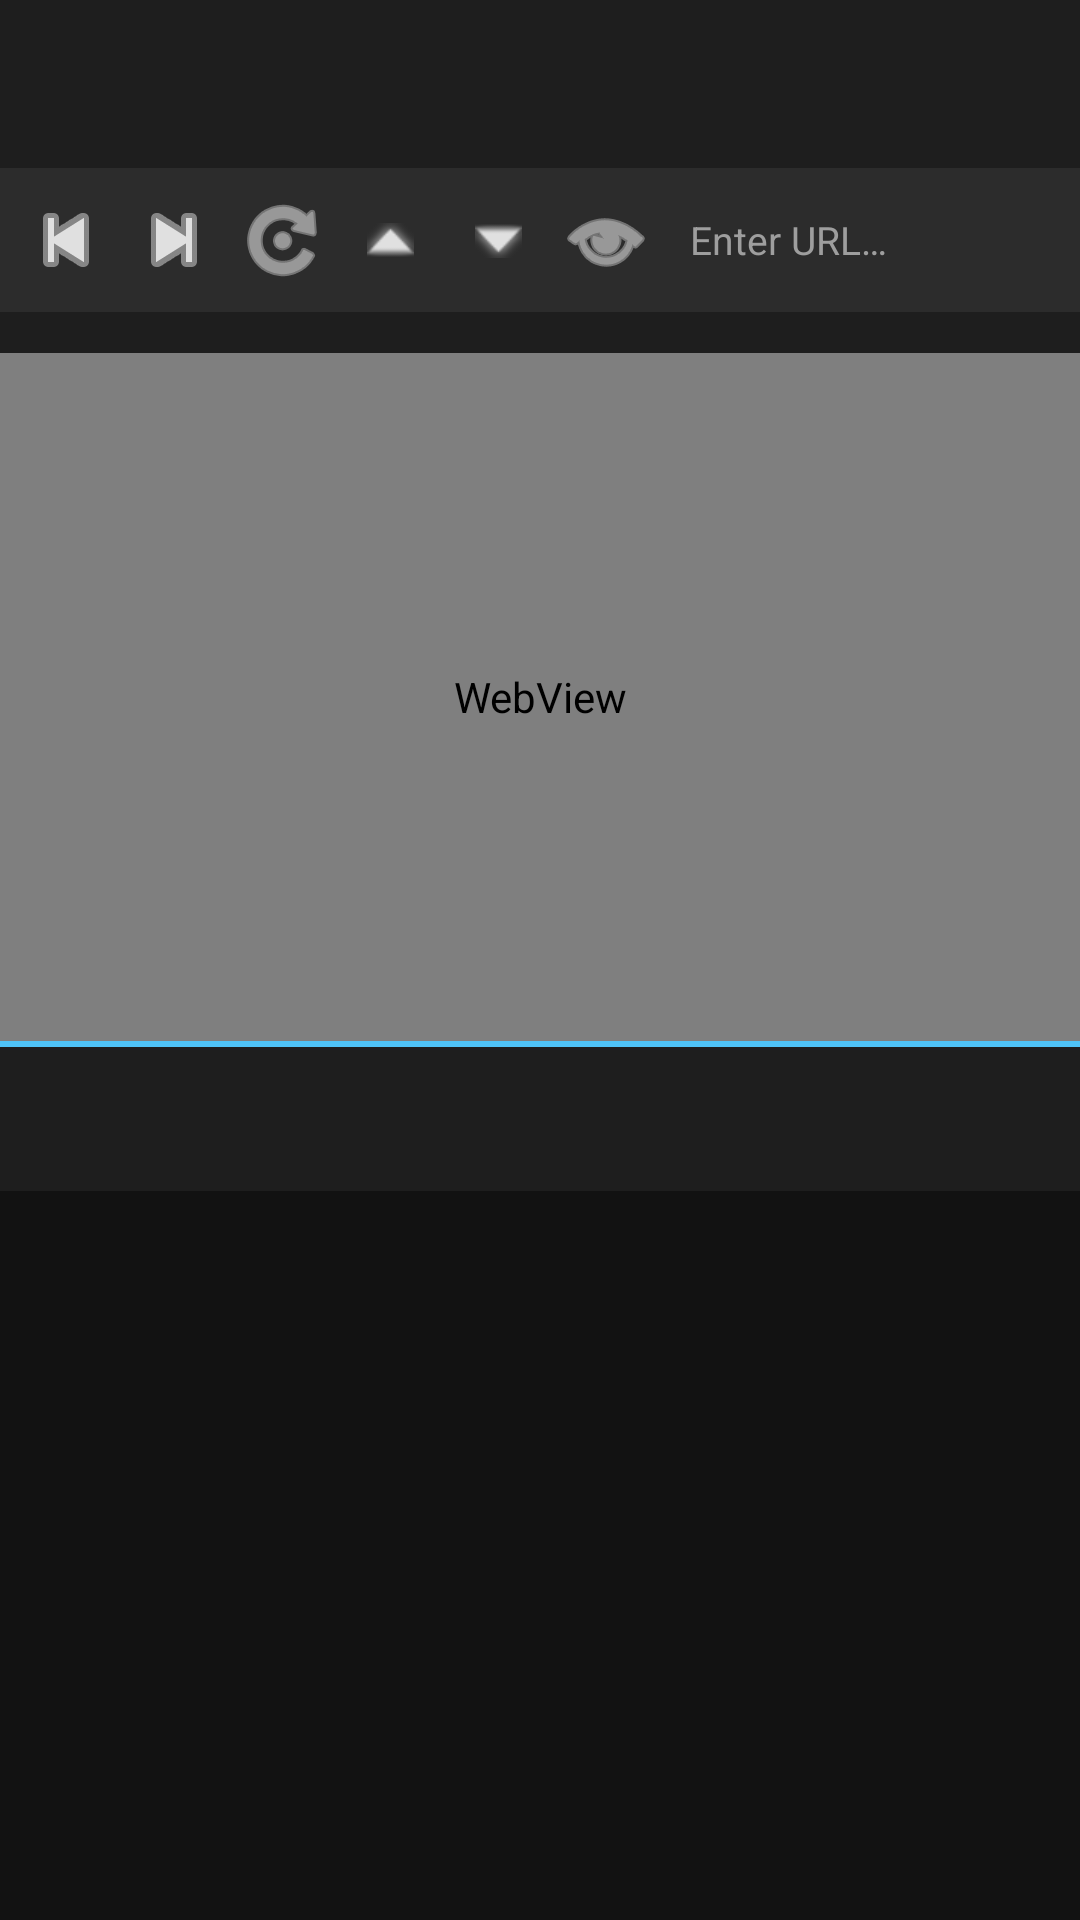

Icon click points for this 1080px×1920px phone screenshot, format [x,y]:
Back: [66,240]
Forward: [174,240]
Refresh: [282,240]
Scroll Down: [498,240]
Scroll Up: [390,240]
